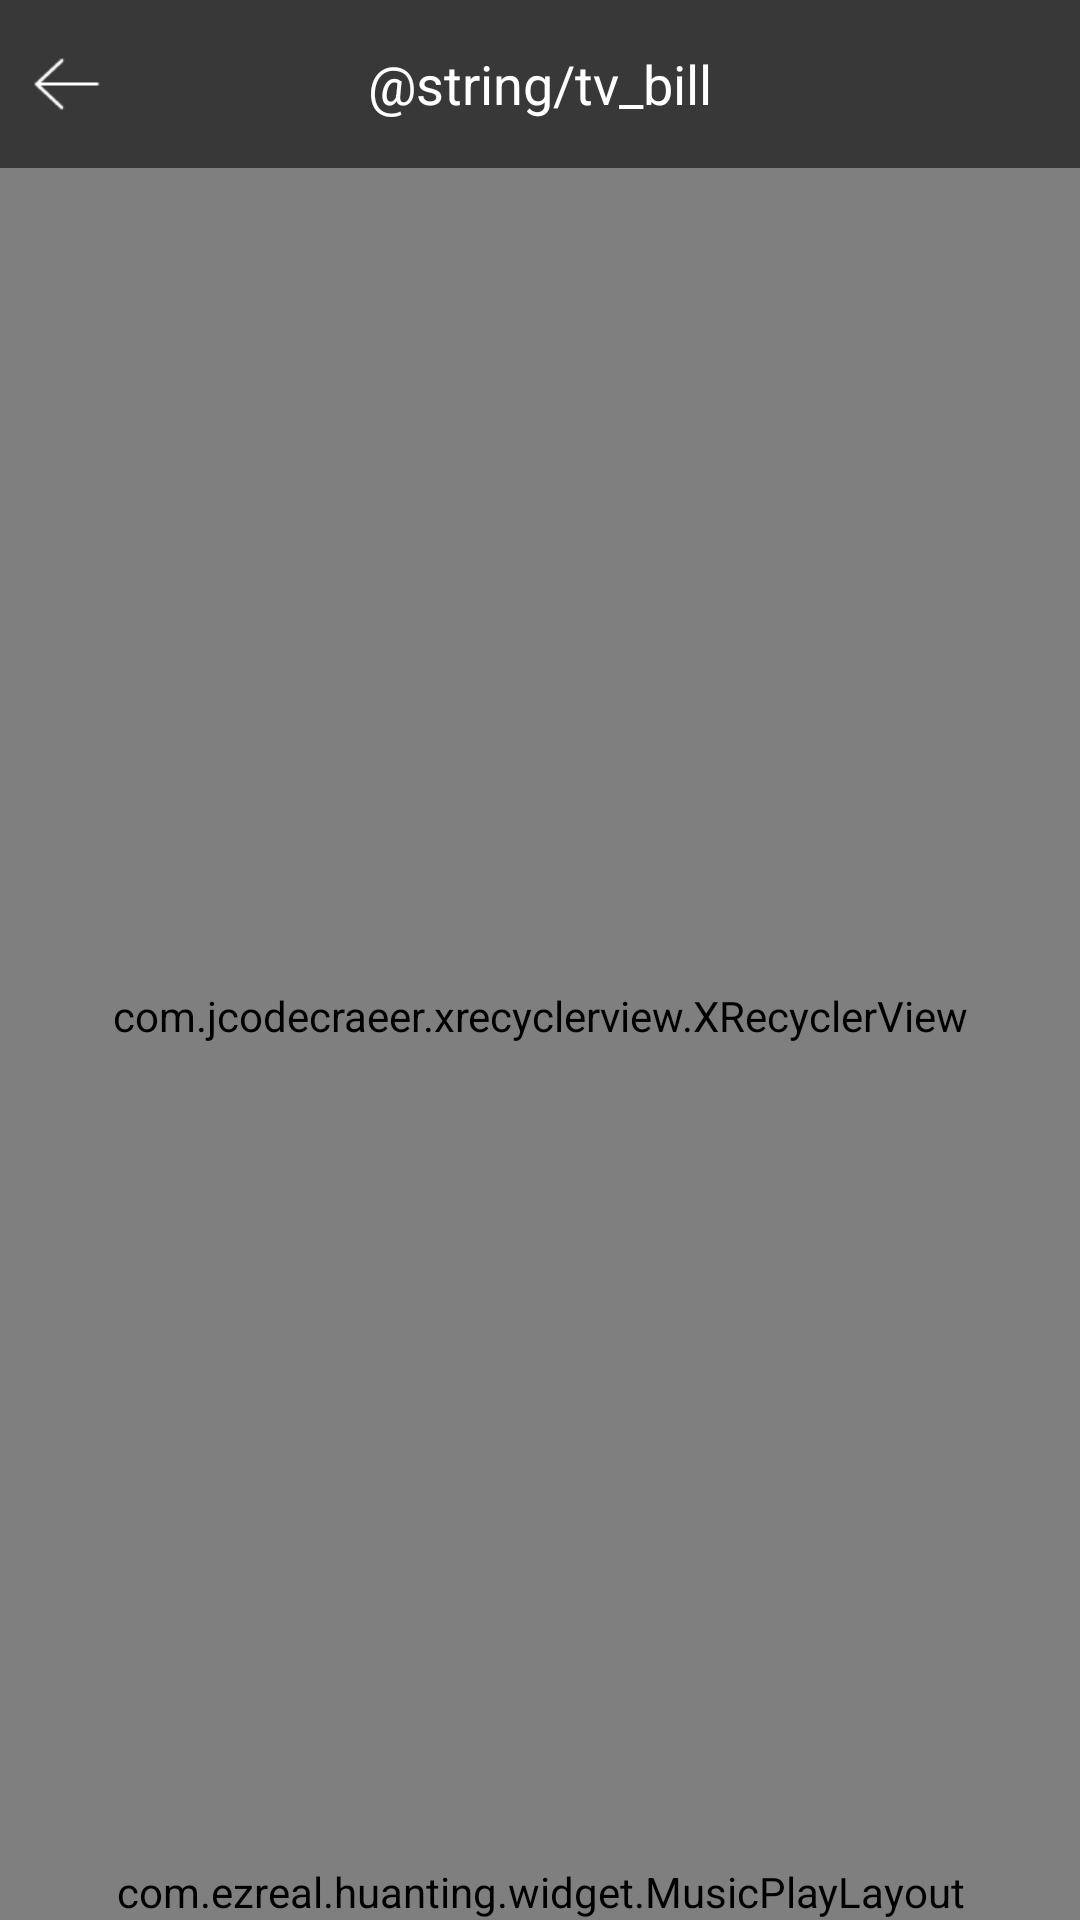

Icon click points for this 1080*1920 phone screenshot, format (x=x, y=y):
title back: (x=66, y=84)
